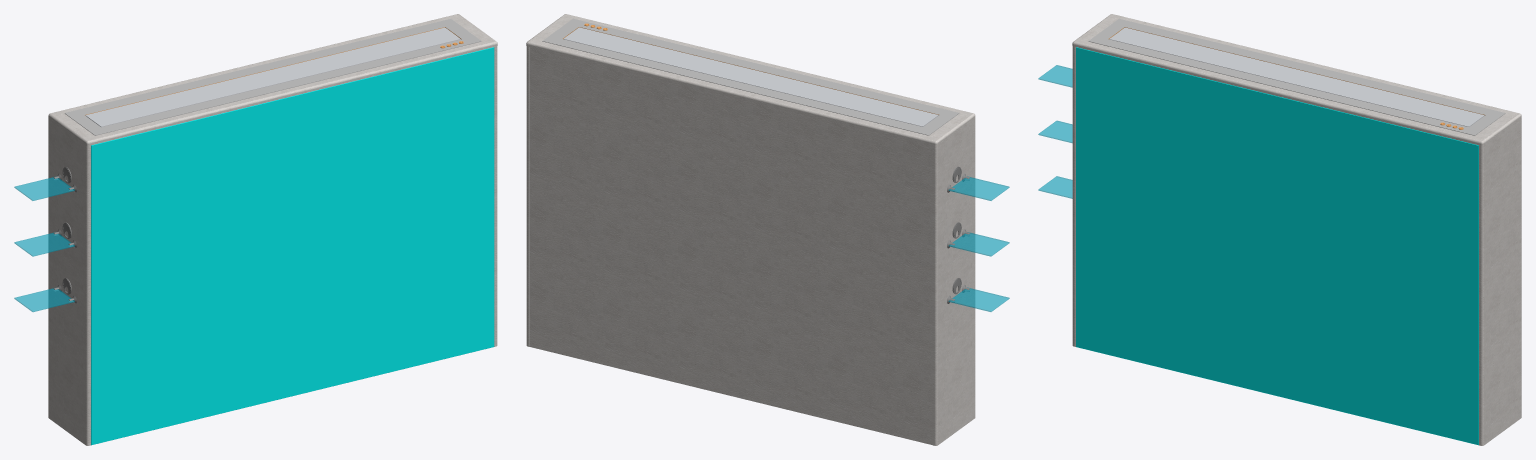
Rendered from 3D Сборка 1.obj.
3 renders of one model, left to right at view 1: azimuth 30°, elevation 25°; view 2: azimuth 150°, elevation 25°; view 3: azimuth 330°, elevation 25°, orthographic.
Bounding box in the file's own units: 2.14 × 1.37 × 0.323.
30 materials, 4 textured.
